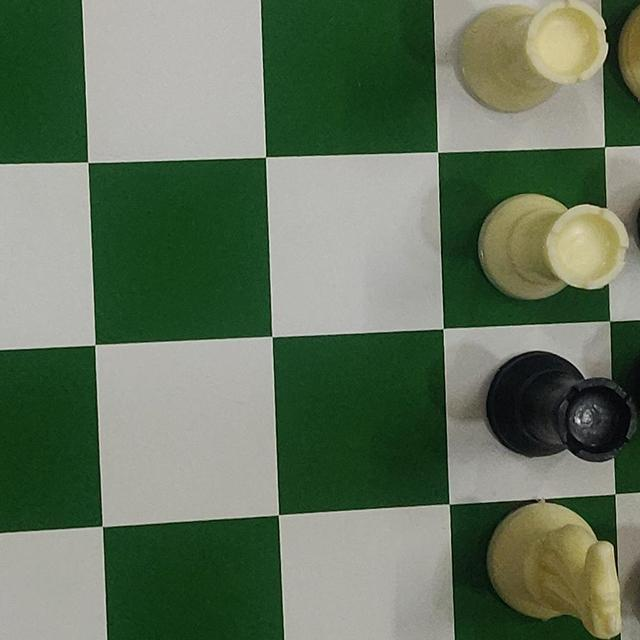black-rook: (485, 351, 640, 465)
white-knight: (485, 499, 624, 640)
white-rook: (453, 1, 608, 114), (476, 189, 628, 303)
